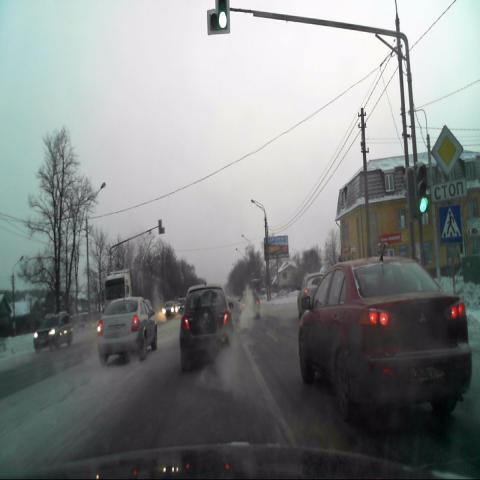6_16: (432, 179, 468, 202)
